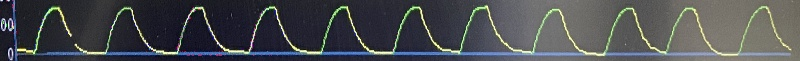normal_volume: (14, 0, 800, 61)
